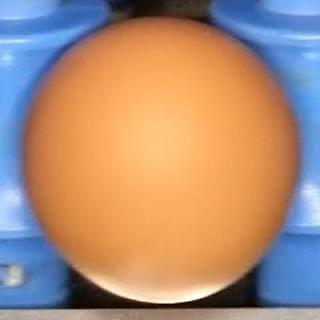Telur: (18, 14, 308, 309)
